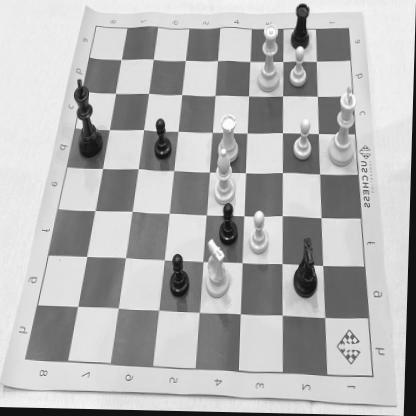black-king: (70, 77, 106, 162)
black-knight: (292, 233, 328, 303)
black-pawn: (168, 252, 194, 301), (152, 116, 176, 165), (218, 198, 242, 247)
black-rook: (288, 0, 314, 54)
white-bishop: (213, 147, 240, 209)
white-king: (326, 81, 362, 171)
white-knight: (202, 238, 235, 300)
white-pawn: (248, 206, 273, 260), (290, 115, 318, 163), (287, 46, 309, 91)
white-queen: (253, 20, 283, 96)
white-rook: (214, 110, 243, 167)
